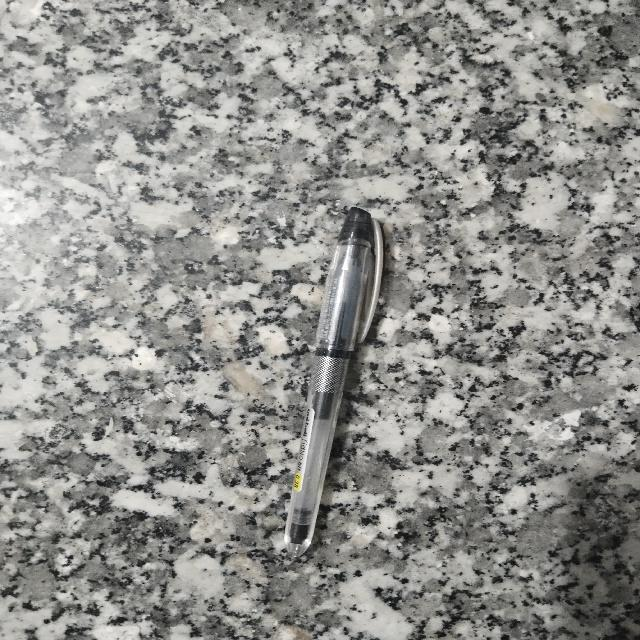pen: (285, 207, 382, 555)
